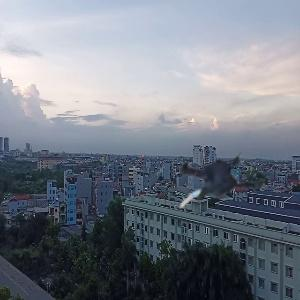drone: (156, 126, 272, 242)
